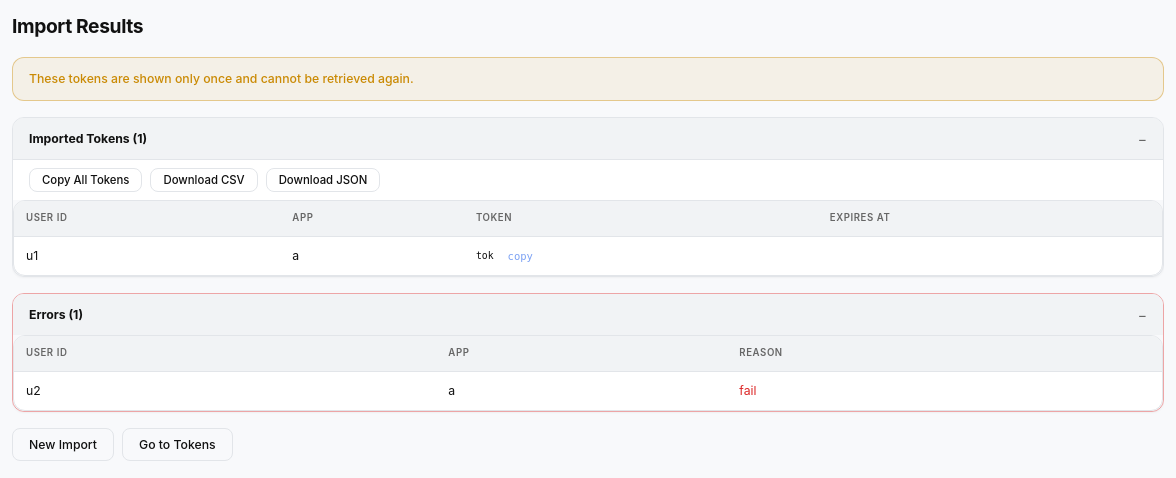
ImportResultsPage › collapses and expands sections
Check: the text "tok" is shown, box [476,250,494,260]
Check: the text "fail" is shown, box [739,382,756,398]
Note: Collapse tokens
Click the text "Imported Tokens (1)".
click(88, 139)  # box [29,131,147,146]
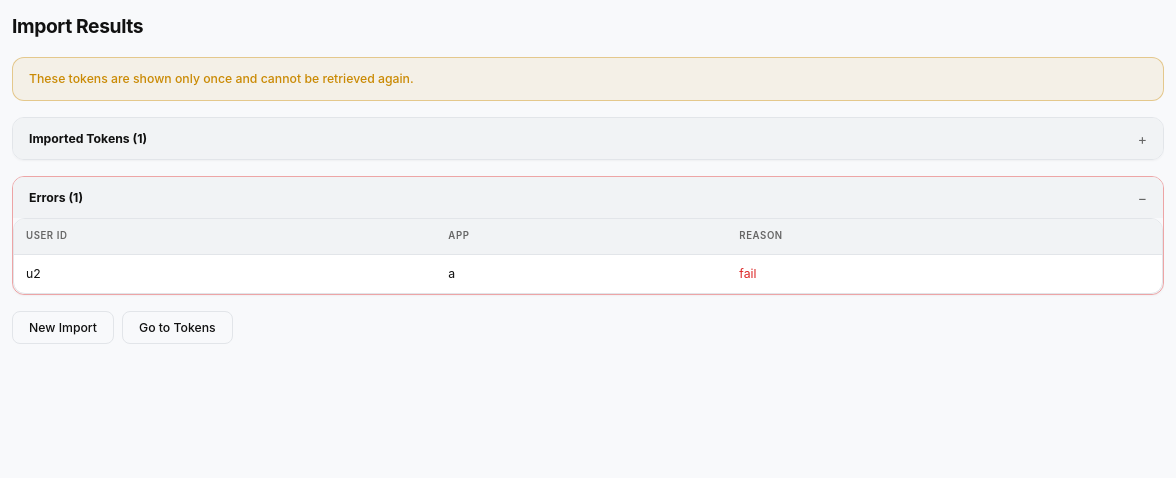
Check: the text "tok" is not shown
Note: Expand again
Click the text "Imported Tokens (1)".
click(88, 139)  # box [29,131,147,146]
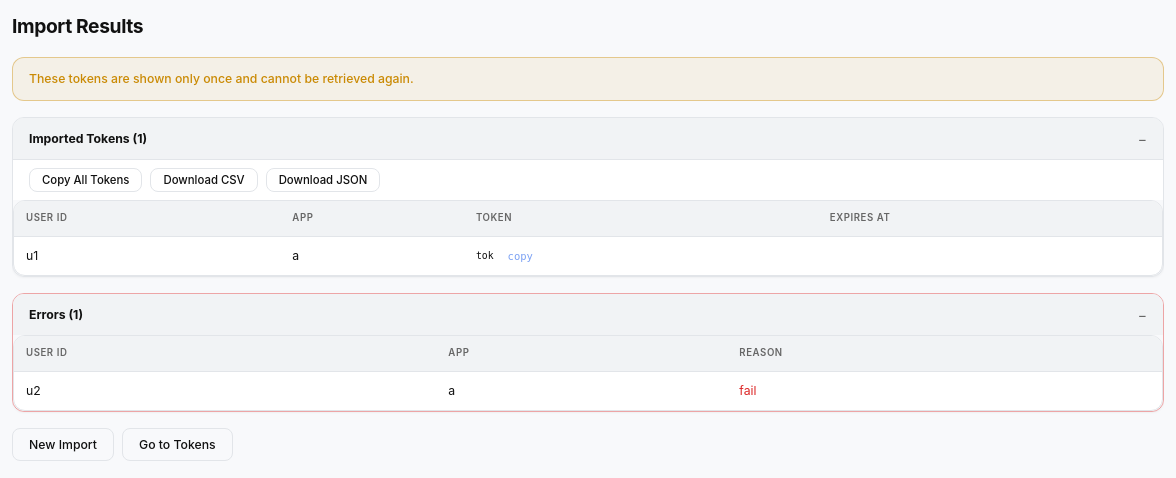
Check: the text "tok" is shown, box [476,250,494,260]
